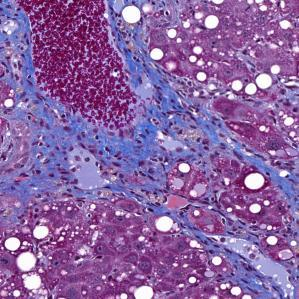fibrosis: (13, 116, 160, 201), (155, 88, 219, 163), (213, 241, 293, 290), (119, 29, 159, 98), (5, 9, 33, 106), (262, 163, 296, 206)
